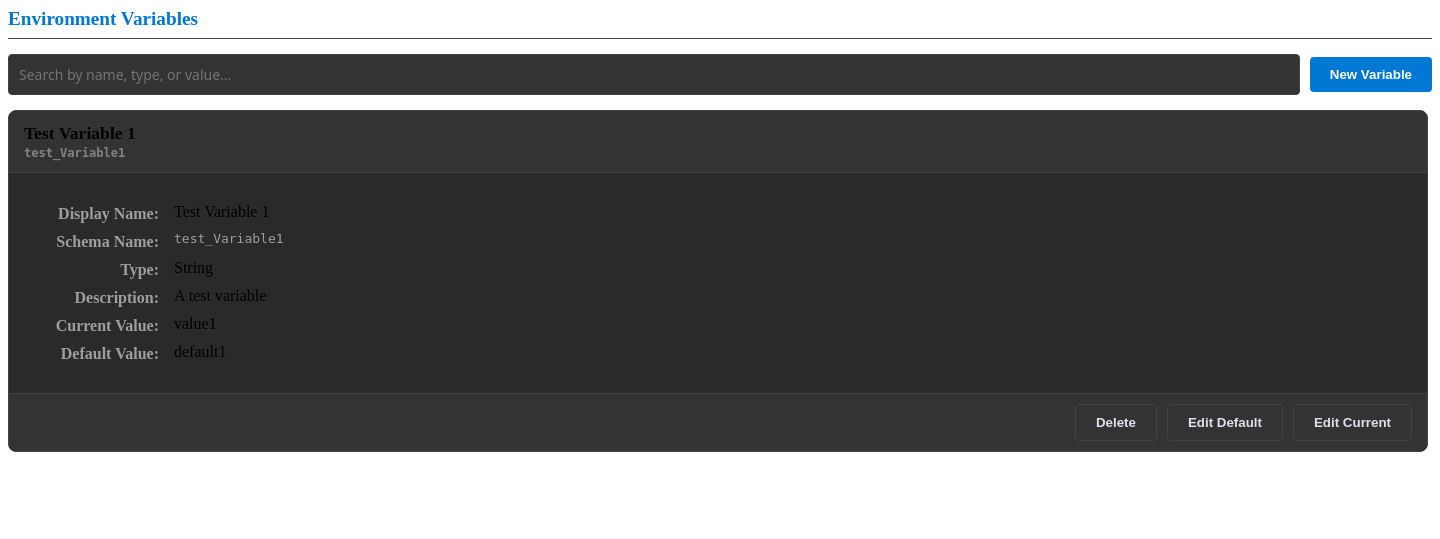
Test: EnvVarsTab › delegated event handling › should handle cancel button via delegation
Enter edit mode
What coordinates should you click on to do the following:
click the button with class "edit-btn"
I would click on:
 (1352, 422)
Its box is [1293,404,1412,441].
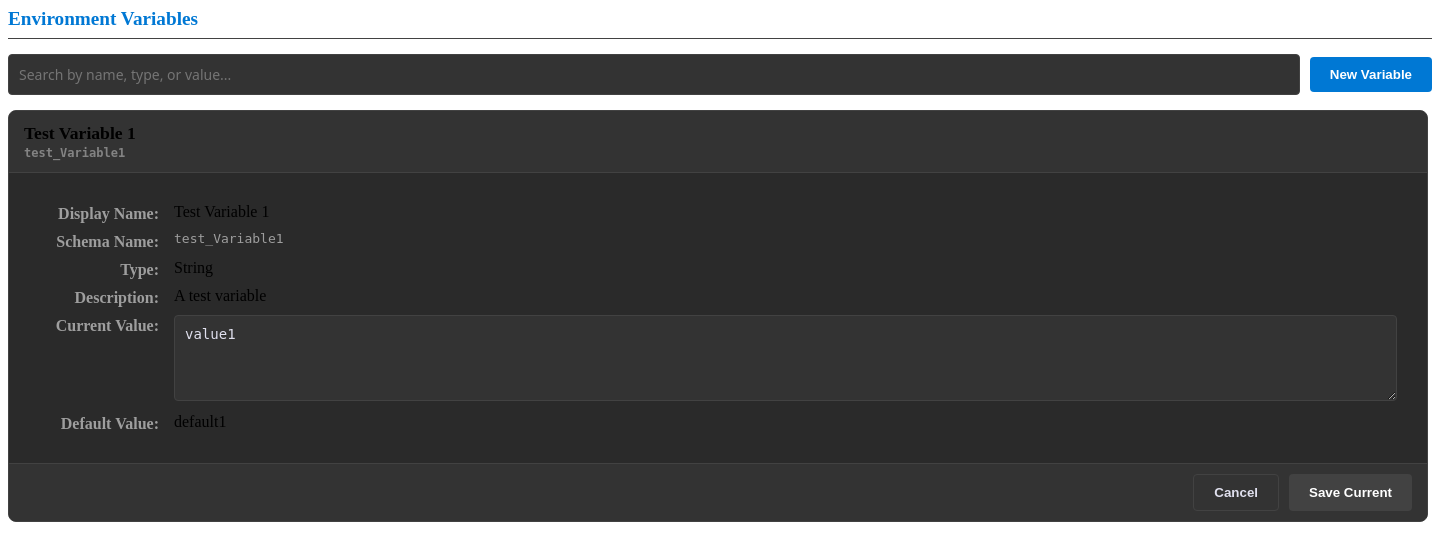
Click cancel
What coordinates should you click on to do the following:
click the button with class "cancel-btn"
I would click on:
 (1236, 492)
Its box is [1193,474,1279,511].
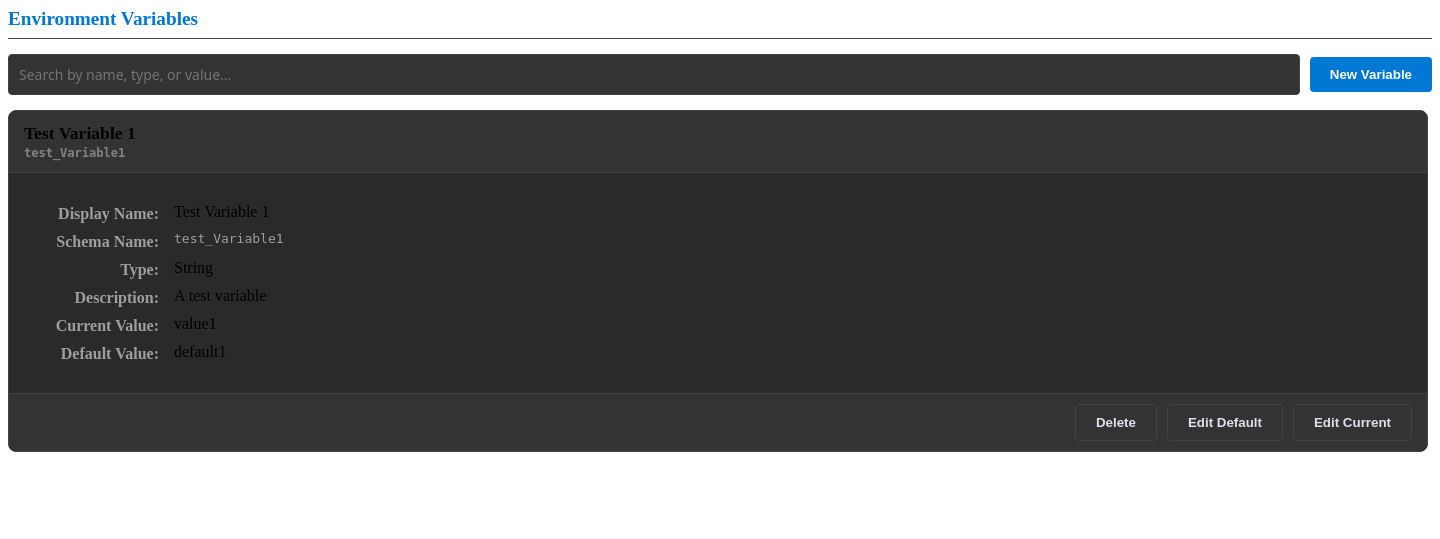
Result: the text box with class "env-var-edit-area" is gone
Result: the button with class "edit-btn" is shown at [1293,404,1412,441]
